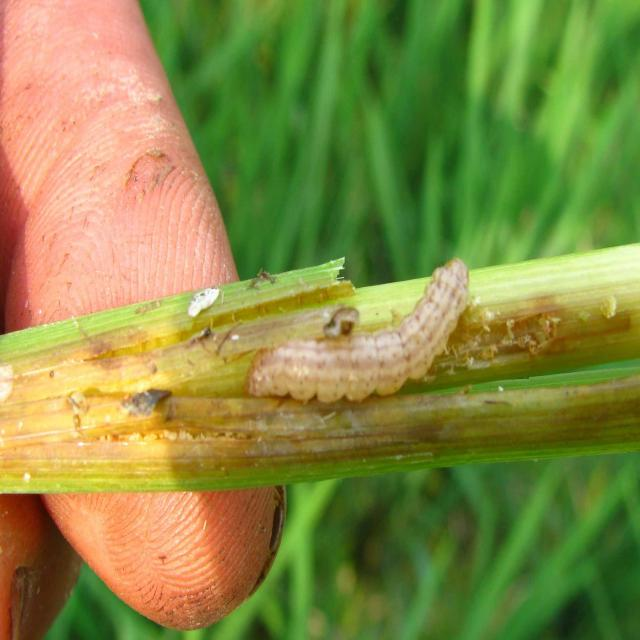cornborer-Larva-: (226, 242, 490, 423)
